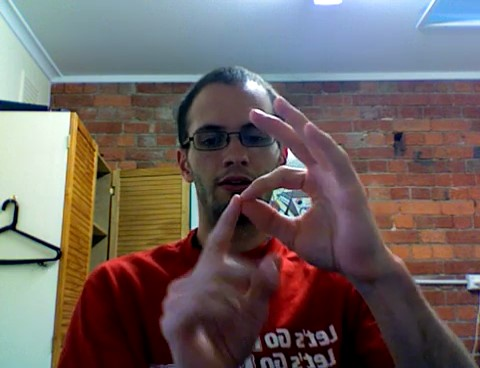P: (153, 87, 380, 361)
